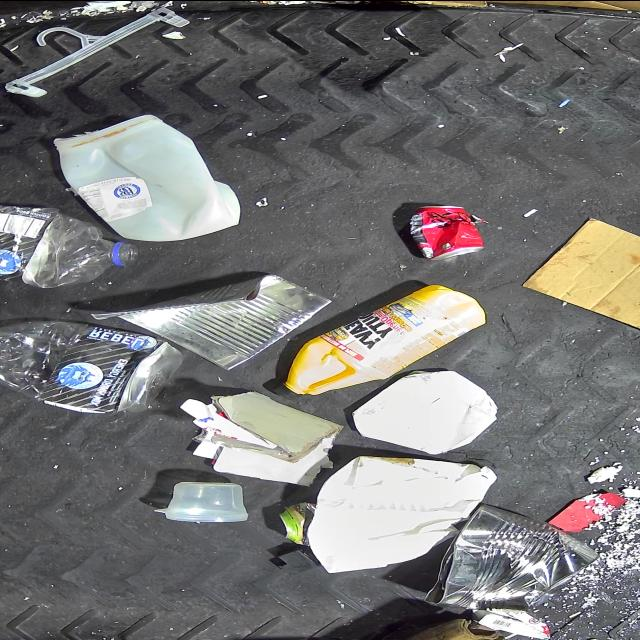can: (420, 508, 600, 620), (409, 204, 486, 260), (280, 501, 313, 541)
milk_jug: (52, 114, 240, 242)
non_white_jug: (274, 288, 490, 400)
plastic_bottle: (0, 318, 186, 412), (0, 203, 138, 287)
